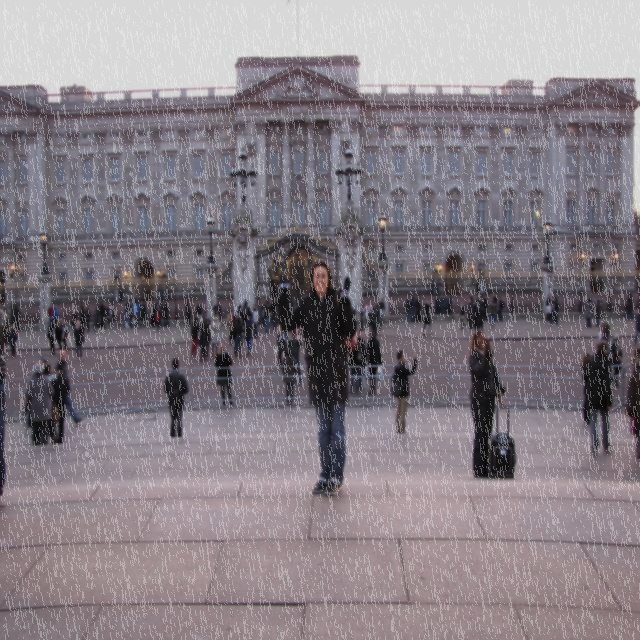pessoa: (276, 257, 358, 497), (467, 329, 507, 478), (582, 339, 613, 456), (25, 362, 55, 446), (390, 349, 418, 434), (164, 358, 190, 438), (56, 350, 83, 424), (0, 292, 8, 500), (624, 358, 640, 459), (51, 362, 70, 444), (214, 342, 234, 408), (366, 330, 383, 396), (285, 329, 304, 386), (348, 338, 364, 397), (282, 346, 298, 404), (354, 329, 366, 391), (611, 333, 623, 387), (276, 325, 288, 368), (74, 319, 86, 361), (190, 316, 202, 358), (210, 316, 222, 358), (233, 316, 245, 358), (600, 350, 612, 392), (198, 318, 208, 363), (46, 318, 58, 354), (422, 300, 433, 336), (244, 315, 253, 357), (42, 364, 61, 383), (548, 296, 560, 326), (623, 292, 635, 320), (7, 328, 18, 358), (600, 323, 611, 353), (54, 318, 64, 350), (204, 318, 212, 358), (376, 297, 386, 328), (582, 297, 592, 328), (632, 308, 640, 346), (12, 302, 22, 332), (593, 298, 603, 328), (548, 296, 558, 324), (60, 318, 68, 352), (370, 306, 378, 339), (125, 300, 134, 329), (474, 304, 482, 336), (467, 296, 474, 332), (262, 302, 270, 333), (47, 302, 55, 332), (476, 302, 484, 332), (584, 298, 592, 328), (270, 296, 278, 326), (10, 326, 18, 355), (70, 307, 78, 336), (132, 300, 140, 329), (157, 298, 165, 327), (459, 301, 467, 330), (252, 306, 259, 338), (252, 304, 259, 336), (212, 300, 222, 322), (581, 352, 592, 372), (489, 299, 496, 330), (150, 304, 159, 328), (227, 310, 233, 346), (598, 322, 608, 343), (233, 315, 238, 356), (409, 294, 416, 322), (634, 291, 640, 323), (133, 300, 140, 327), (631, 347, 639, 370), (84, 306, 91, 332), (416, 296, 423, 322), (154, 304, 160, 334), (163, 302, 170, 326), (195, 304, 203, 325), (546, 294, 552, 322), (469, 295, 474, 328), (104, 304, 112, 324), (80, 306, 86, 332), (95, 302, 101, 328), (100, 302, 106, 328), (482, 294, 488, 320), (36, 356, 48, 369), (404, 298, 410, 322), (274, 306, 280, 330), (245, 306, 253, 323), (497, 296, 502, 322), (242, 306, 249, 324), (362, 301, 372, 313), (374, 304, 380, 322), (597, 276, 603, 294), (186, 300, 190, 326), (52, 304, 58, 320), (262, 298, 270, 310), (435, 279, 440, 296), (476, 277, 481, 294), (160, 287, 165, 302), (242, 298, 248, 310), (236, 304, 243, 314), (146, 288, 151, 301), (492, 292, 497, 304), (234, 312, 240, 322), (477, 299, 482, 307), (473, 299, 478, 306), (476, 296, 479, 306), (120, 286, 123, 290)
